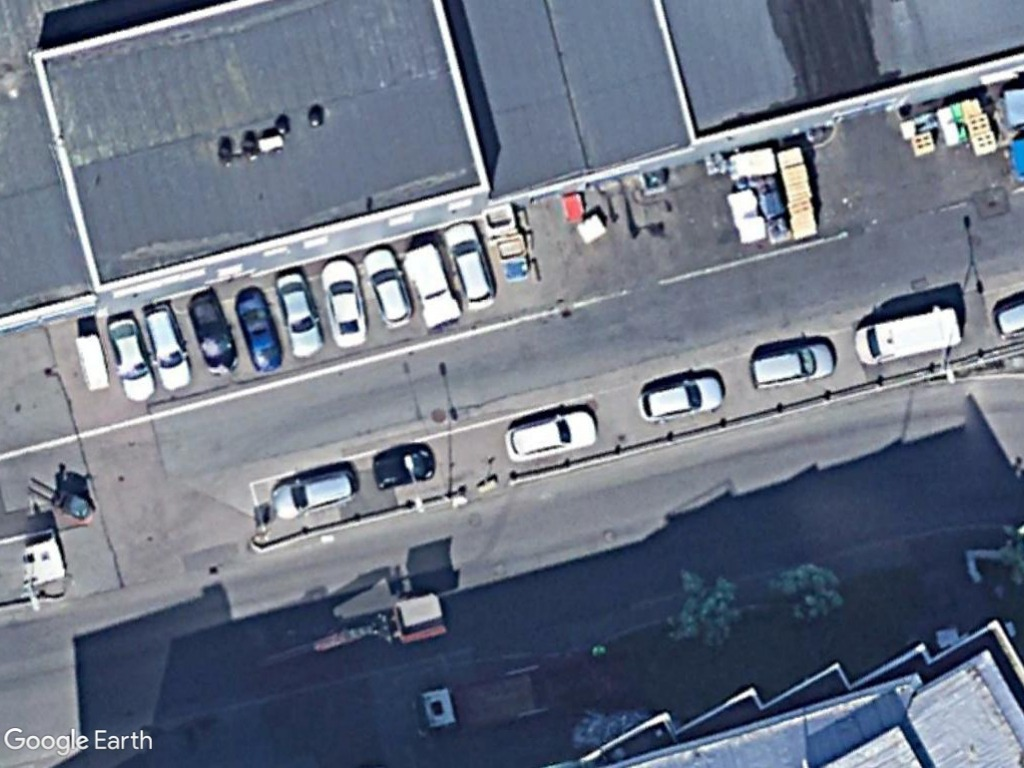car: (497, 401, 603, 468), (97, 306, 164, 405), (177, 283, 243, 378), (136, 299, 200, 396), (229, 283, 289, 381), (316, 253, 374, 353), (263, 464, 364, 521), (633, 368, 732, 426), (268, 266, 328, 361), (444, 217, 503, 313), (742, 336, 841, 391), (362, 243, 417, 332), (365, 442, 441, 494)
van: (849, 299, 968, 373)
